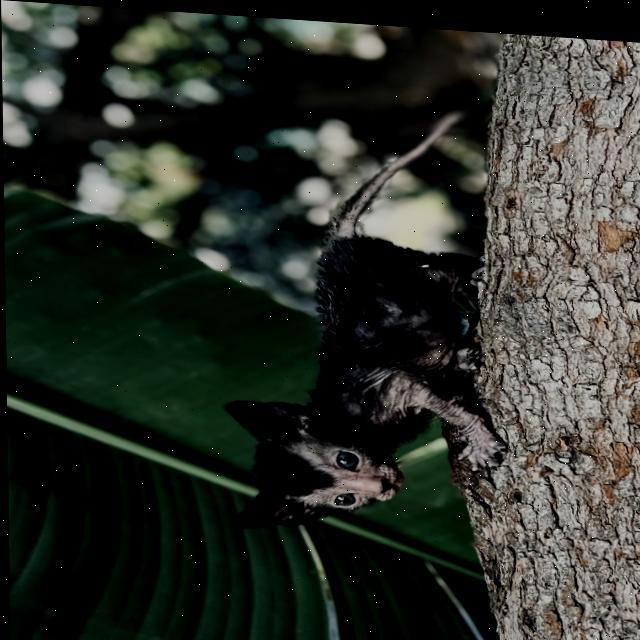Lykoi: (215, 94, 507, 541)
